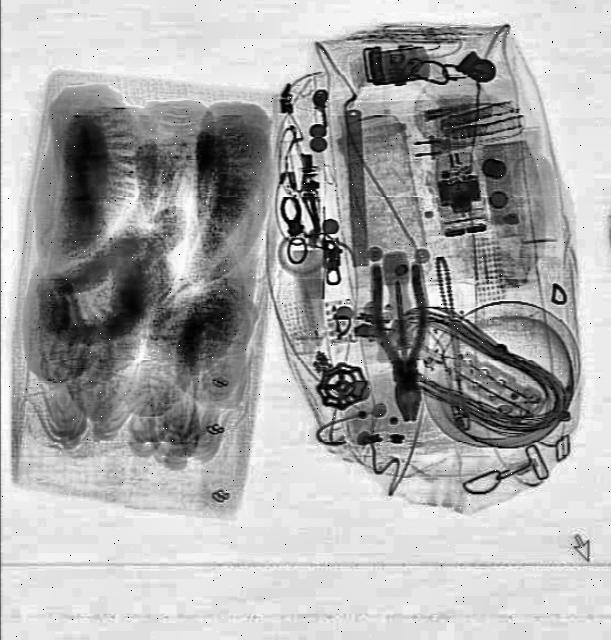Pliers: (368, 264, 437, 426)
